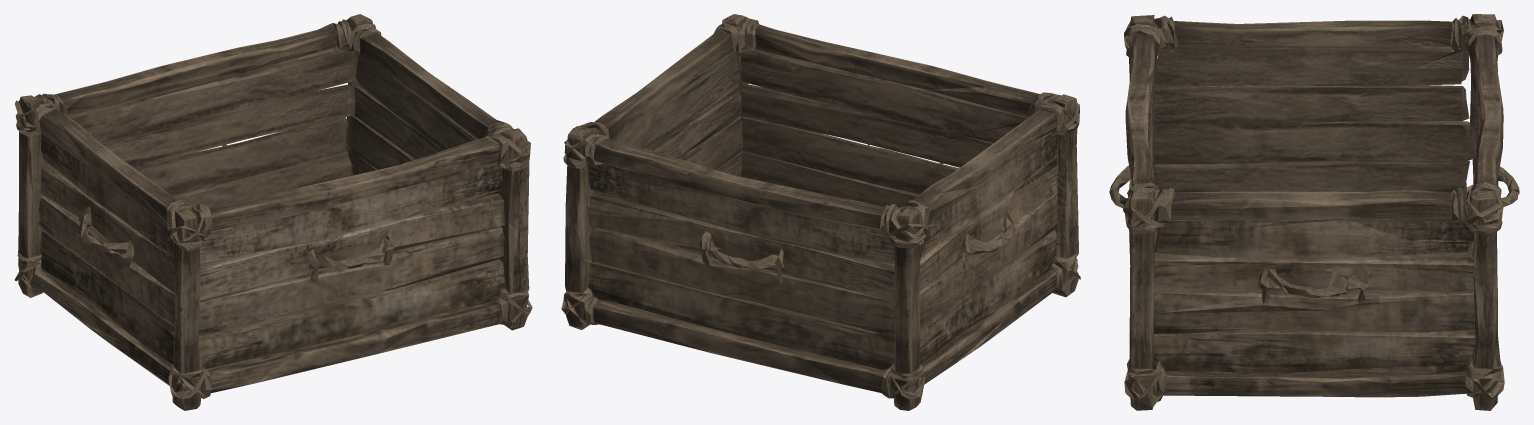
The model's file is slat_crate.fbx.
3 views of the same model, side by side, from view 1: azimuth 30°, elevation 25°; view 2: azimuth 150°, elevation 25°; view 3: azimuth 270°, elevation 25° (orthographic). The views are drawn at different scales.
Visible parts, largest first — view 1: output_unwrapped; view 2: output_unwrapped; view 3: output_unwrapped.
Part boxes in pixels (x1,y1,x2,y2): output_unwrapped: (14, 14, 532, 410); output_unwrapped: (561, 14, 1080, 410); output_unwrapped: (1109, 14, 1519, 410).
Size of the model in its own units: 190 by 95.81 by 165.
Materials: 1 (1 with a texture image).
